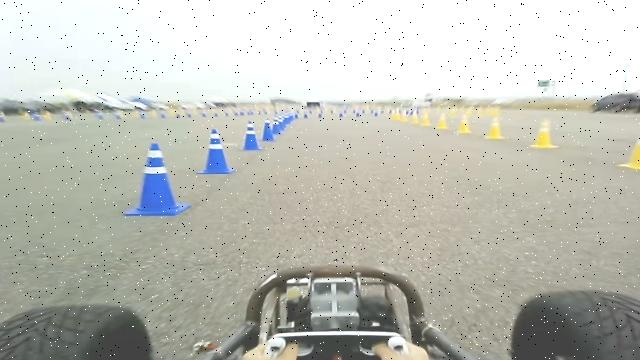blue cone: (122, 142, 191, 216), (196, 128, 234, 174), (240, 120, 262, 150), (261, 118, 275, 142)
yellow cone: (617, 130, 640, 170), (530, 118, 558, 149), (484, 116, 504, 140), (456, 116, 472, 134), (435, 112, 448, 130), (420, 108, 430, 126), (390, 108, 400, 120), (411, 110, 418, 124), (400, 110, 408, 122)
